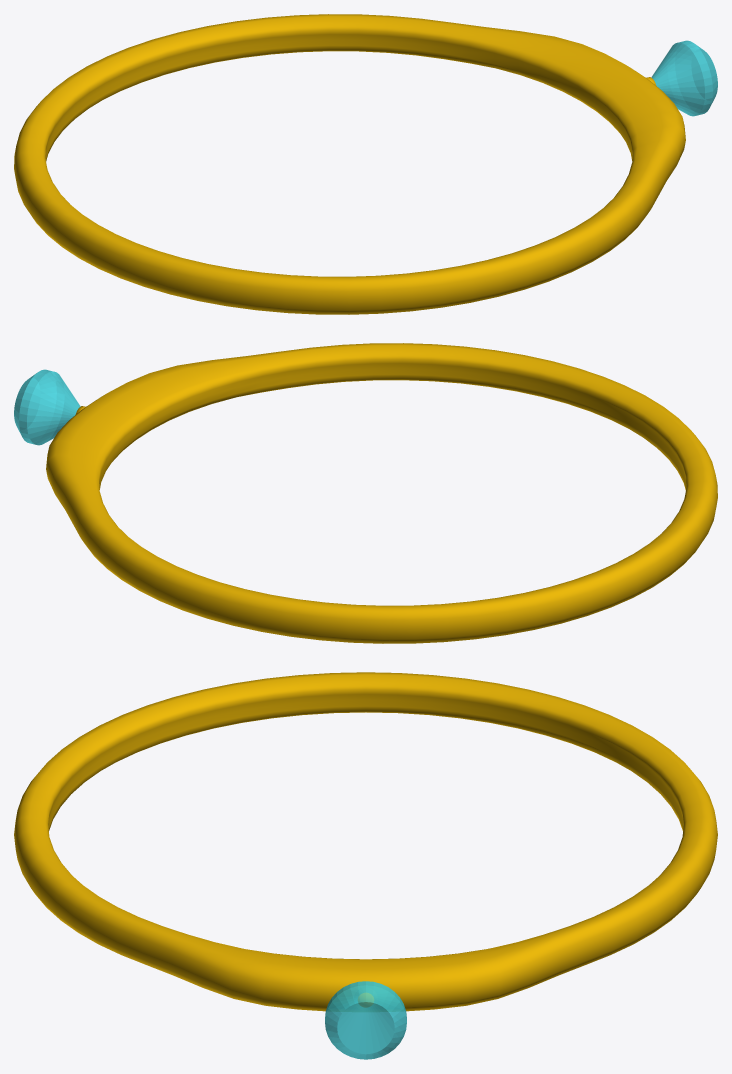
The model's file is ring-v1.fbx.
3 views of the same model, one above another, from view 1: azimuth 30°, elevation 25°; view 2: azimuth 150°, elevation 25°; view 3: azimuth 270°, elevation 25° (orthographic). The views are drawn at different scales.
Visible parts, largest first — view 1: ring; view 2: ring; view 3: ring.
Boxes of the visible parts, bbox=[...] form: ring: bbox=[14, 14, 717, 314]; ring: bbox=[14, 343, 717, 643]; ring: bbox=[14, 672, 717, 1059].
Size of the model in its own units: 232 by 23.49 by 202.
